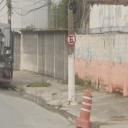NoEstacionar: (66, 33, 77, 48)
